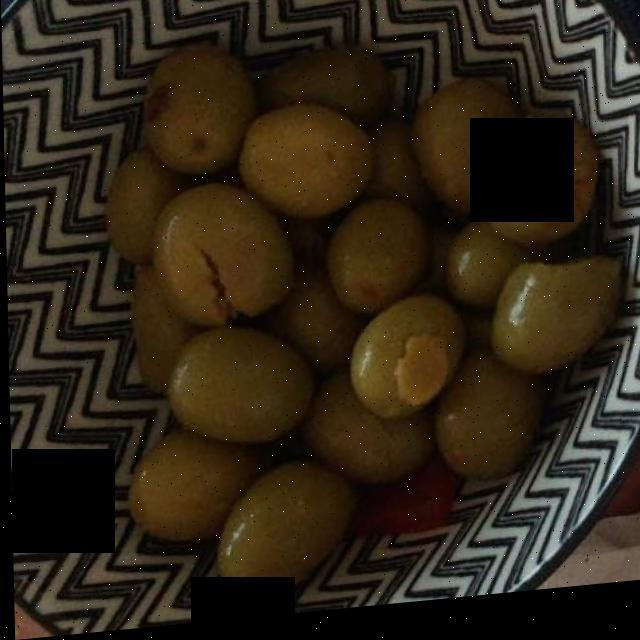green-olives: (111, 52, 614, 595)
